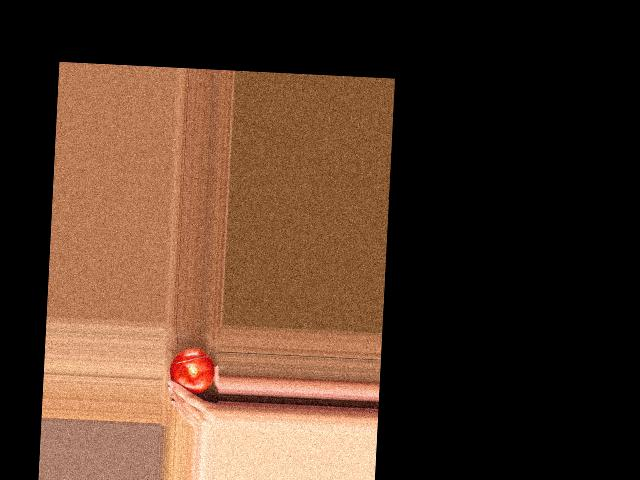tomato: (169, 347, 215, 394)
